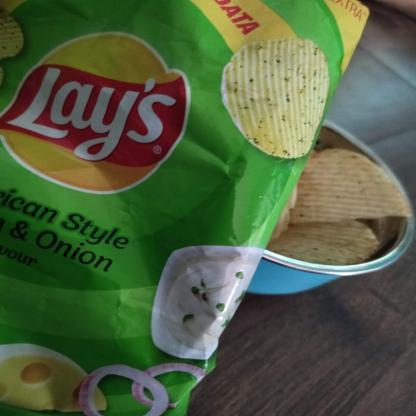cream_and_onion: (3, 1, 370, 414)
